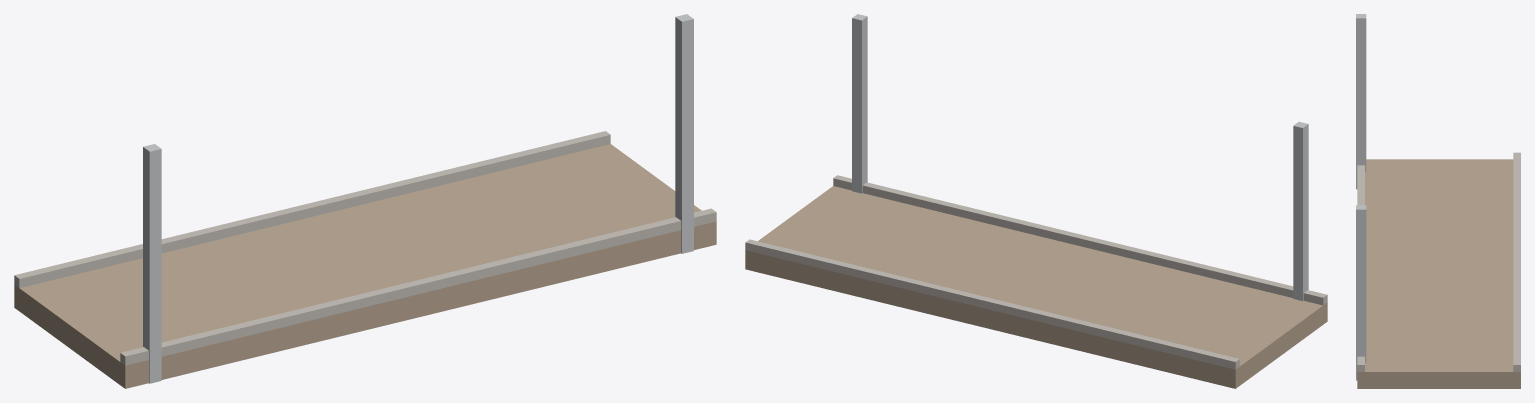
File: pontoon.glb
3 renders of one model, left to right at view 1: azimuth 30°, elevation 25°; view 2: azimuth 150°, elevation 25°; view 3: azimuth 270°, elevation 25°, orthographic. The views are drawn at different scales.
Parts seen in each view (by area): view 1: props_pontoon; view 2: props_pontoon; view 3: props_pontoon.
Boxes of the visible parts, bbox=[...] form: props_pontoon: bbox=[14, 14, 716, 388]; props_pontoon: bbox=[745, 14, 1327, 388]; props_pontoon: bbox=[1356, 14, 1520, 388].
Size of the model in its own units: 8 by 3 by 2.62.
